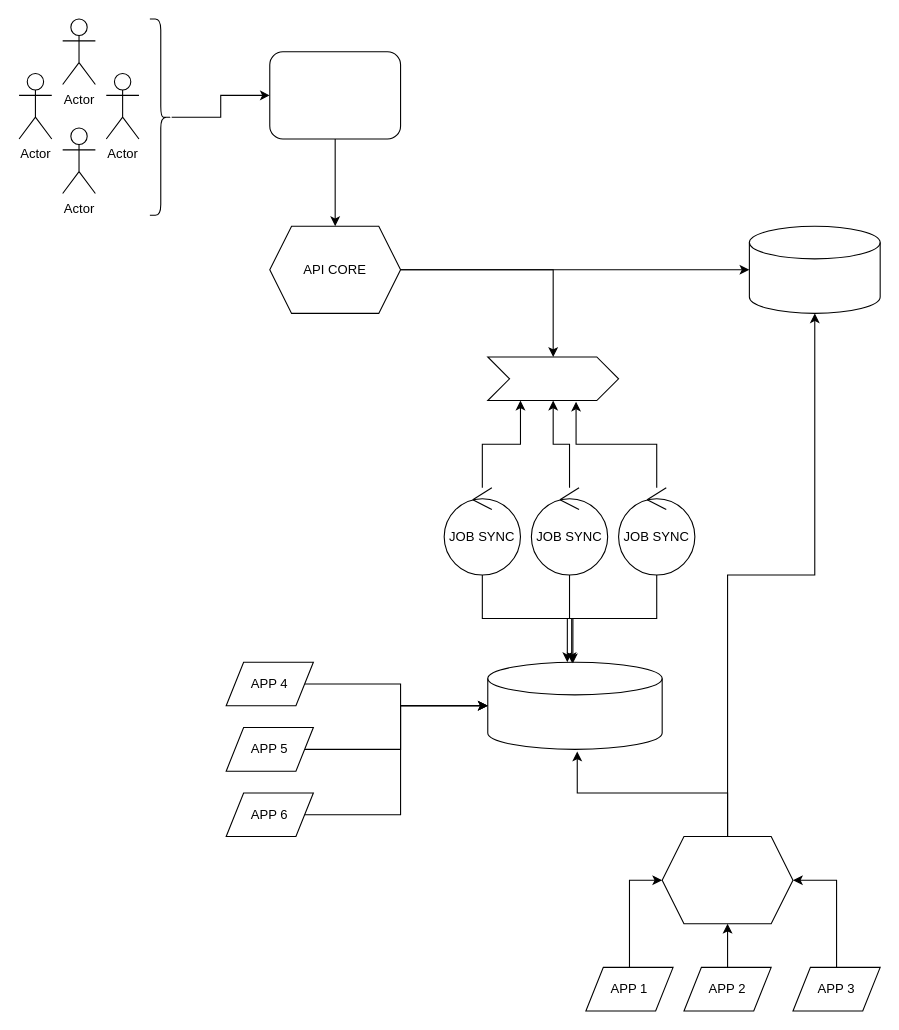
Some shapes in this 899 by 1030 pixel diagram are drawn without their labels. Each missing label, with the box of its shape:
API CONSUMERS: (661, 835, 793, 924)
MONGO DB: (748, 225, 880, 313)
PORTAL WEB: (269, 51, 401, 139)
RABBIT MQ: (487, 356, 619, 401)
REDIS: (487, 661, 662, 749)
